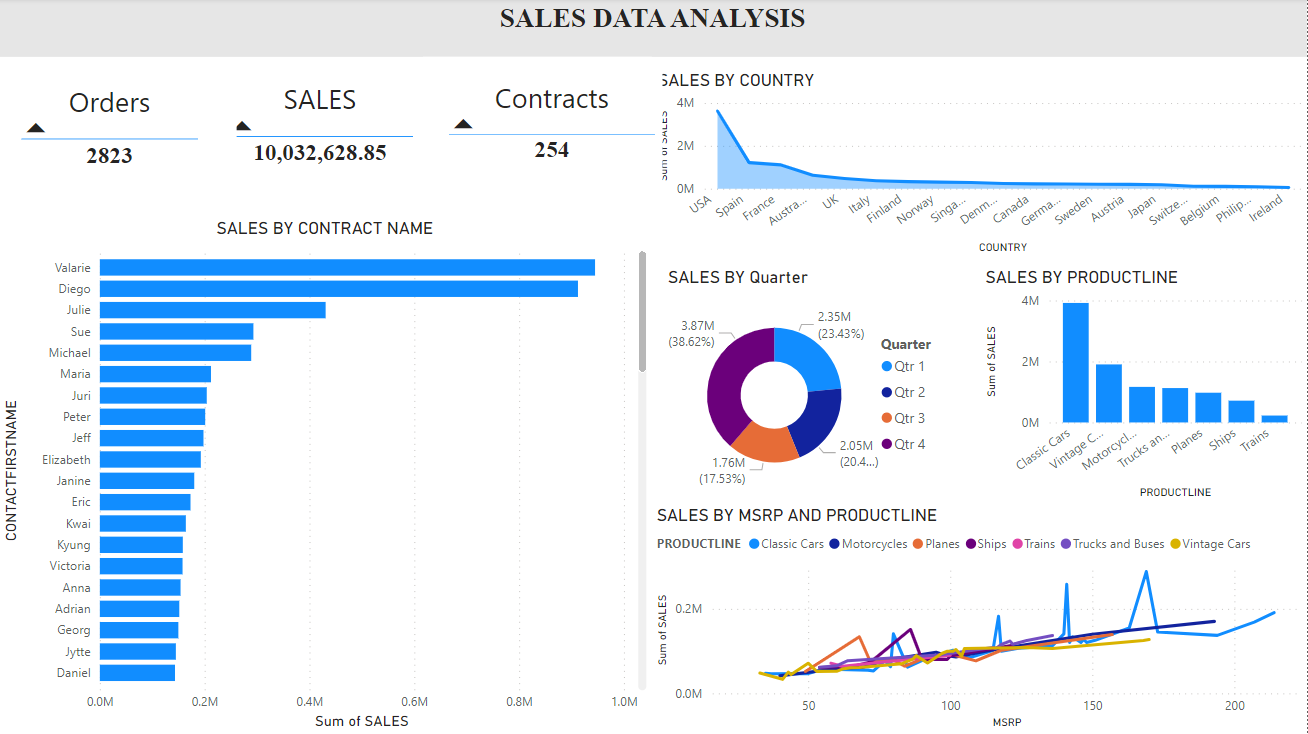

This screenshot's page, from the dashboard's own definition file:
{"tool":"powerbi","page":{"name":"Page 1","canvas":[1280,720],"ordinal":0},"visuals":[{"type":"clusteredBarChart","title":"SALES BY CONTRACT NAME","fields":{"Y":["Sum(Sales_f.SALES)"],"Category":["Contract_Dim.CONTACTFIRSTNAME"]},"box":[0,215.1,639.3,504.9],"z":0},{"type":"areaChart","title":"SALES BY COUNTRY","fields":{"Category":["Customer_Dim.COUNTRY"],"Y":["Sum(Sales_f.SALES)"]},"box":[640.5,69.7,639.3,185.8],"z":1000},{"type":"textbox","box":[0,0,1280.2,57.6],"z":2000},{"type":"donutChart","title":"SALES BY Quarter","fields":{"Category":["Order_Dim.ORDERDATE.Variation.Date Hierarchy.Quarter","Order_Dim.ORDERDATE.Variation.Date Hierarchy.Month","Order_Dim.ORDERDATE.Variation.Date Hierarchy.Day"],"Y":["Sum(Sales_f.SALES)"]},"box":[650.3,262.8,286,232.3],"z":3000},{"type":"tableEx","fields":{"Values":["Contract_Dim.Contract_ID"]},"box":[416.2,57.6,223.2,125.3],"z":4000},{"type":"tableEx","fields":{"Values":["Contract_Dim.Contract_ID"]},"box":[426.2,67.6,223.2,125.3],"z":5000},{"type":"tableEx","fields":{"Values":["Sum(Sales_f.SALES)"]},"box":[210.2,67.7,226.1,135.4],"z":6000},{"type":"tableEx","fields":{"Values":["Order_Dim.Order_ID"]},"box":[8.6,69.1,224.6,135.4],"z":7000},{"type":"clusteredColumnChart","title":"SALES BY PRODUCTLINE","fields":{"Category":["Product_Dim.PRODUCTLINE"],"Y":["Sum(Sales_f.SALES)"]},"box":[960.8,262.8,319,232.3],"z":8000},{"type":"lineChart","title":"SALES BY MSRP AND PRODUCTLINE","fields":{"Y":["Sum(Sales_f.SALES)"],"Series":["Product_Dim.PRODUCTLINE"],"Category":["Product_Dim.MSRP"]},"box":[639.3,495.1,640.5,224.9],"z":9000}]}

Visuals, with their boxes in screenshot pixels (x1, y1, x2, y2), scaled from the page's 1280x720 canvas onto the 1308x734 screenshot:
"SALES BY CONTRACT NAME" clusteredBarChart: bbox=(0, 219, 653, 733)
"SALES BY COUNTRY" areaChart: bbox=(655, 71, 1307, 260)
textbox: bbox=(0, 0, 1307, 59)
"SALES BY Quarter" donutChart: bbox=(665, 268, 957, 505)
tableEx - Contract_Dim.Contract_ID: bbox=(425, 59, 653, 186)
tableEx - Contract_Dim.Contract_ID: bbox=(436, 69, 664, 197)
tableEx - Sum(Sales_f.SALES): bbox=(215, 69, 446, 207)
tableEx - Order_Dim.Order_ID: bbox=(9, 70, 238, 208)
"SALES BY PRODUCTLINE" clusteredColumnChart: bbox=(982, 268, 1307, 505)
"SALES BY MSRP AND PRODUCTLINE" lineChart: bbox=(653, 505, 1307, 733)
